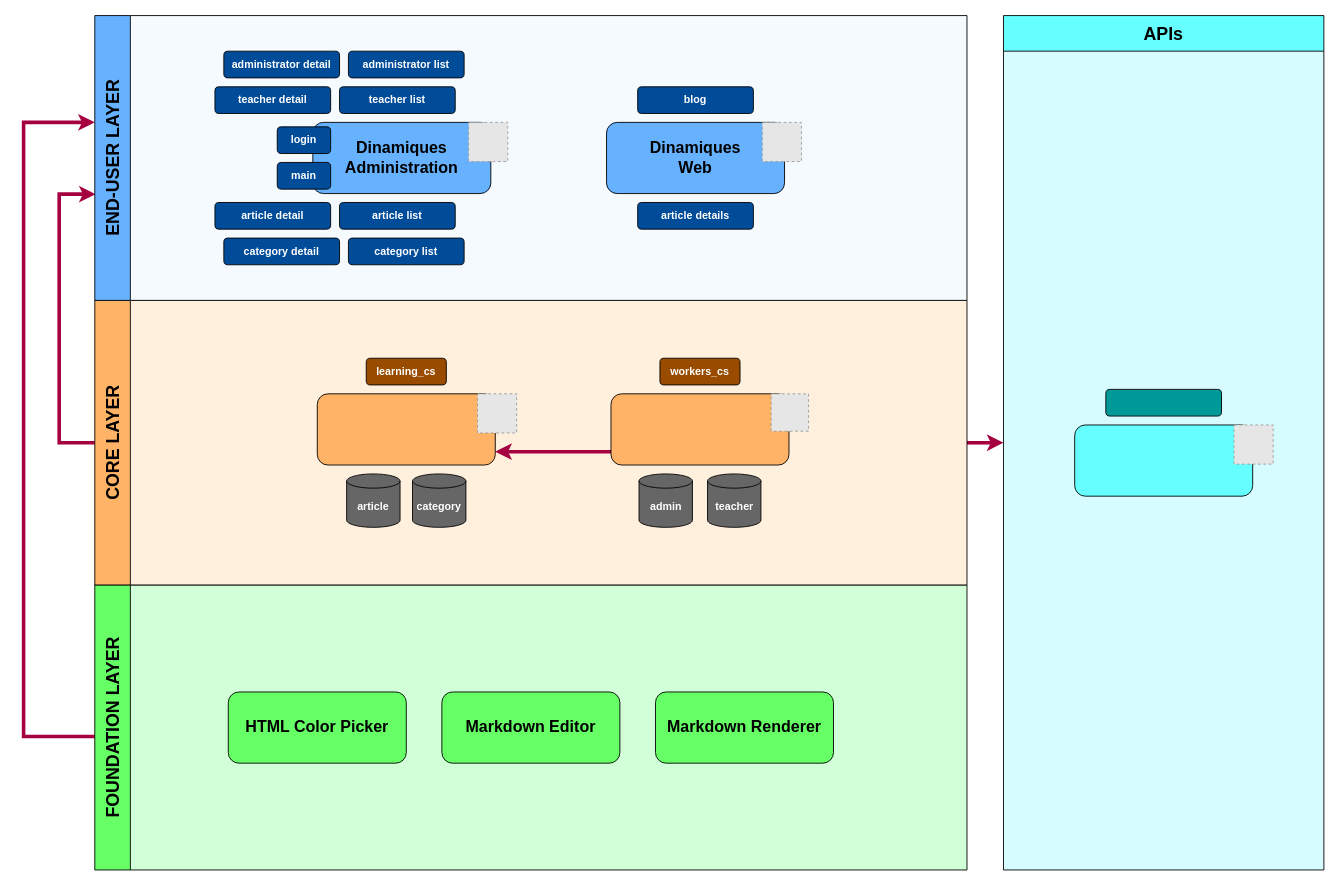
Some shapes in this 1339 by 886 pixel diagram are drawn without their labels. Grey dashed boxes stand in for pictures. Here are the shapes that lost their labels. From the top down, the centre of each, then its label:
point (1163, 402): api
point (405, 429): Dinamiques Learning Core
point (699, 429): Dinamiques Workers Core
point (1163, 460): Dinamiques Api
